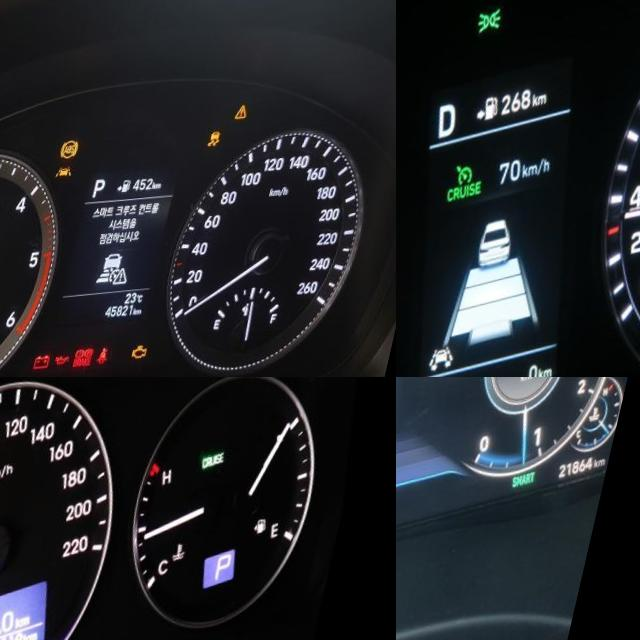Central Warning lamp: (246, 112, 261, 129)
LaneCenteringOff: (444, 349, 477, 377), (68, 171, 87, 183)
SideLamp: (478, 11, 510, 41)
